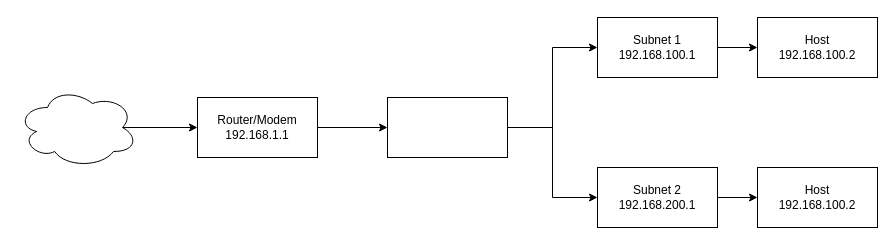
The diagram is 895 pixels wide and 245 high, and some of its shapes have lost their labels. Here are the shapes that lost their labels. From the top down, the box of each, then its label:
(16, 86, 138, 168): Internet
(386, 96, 508, 158): CIDR 192.168.1.0/24
